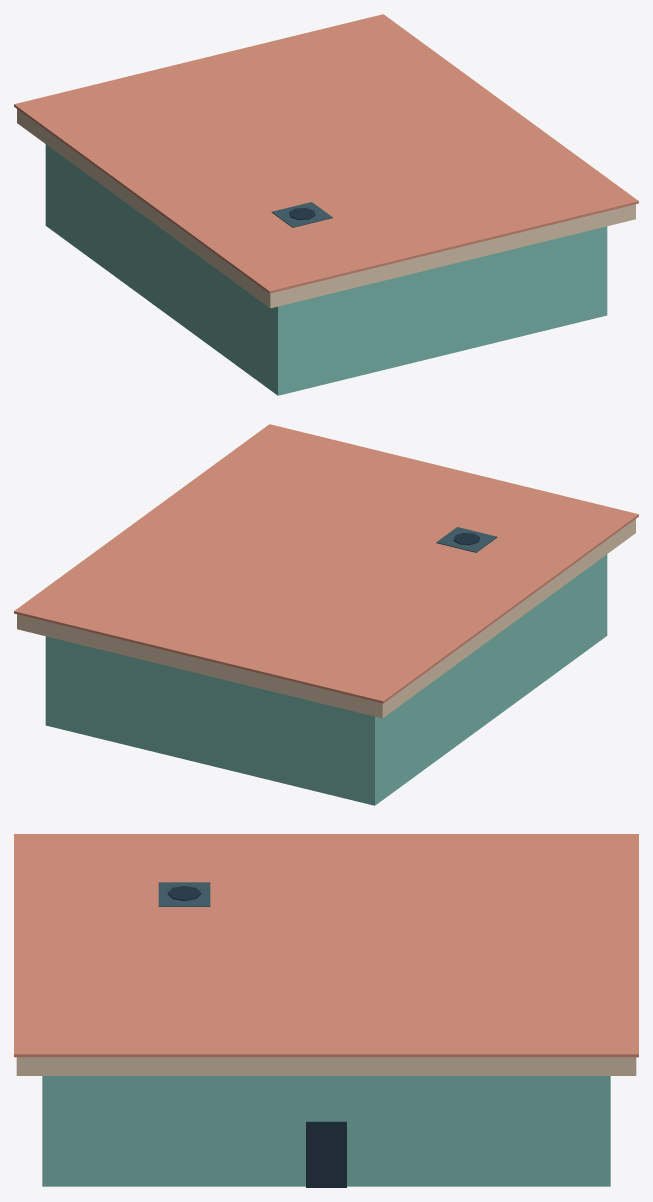
The model's file is building-station.obj.
The picture shows the model from 3 angles, top to bottom: view 1: azimuth 30°, elevation 25°; view 2: azimuth 150°, elevation 25°; view 3: azimuth 270°, elevation 25°; orthographic projection. The views are drawn at different scales.
Visible parts, largest first — view 1: building-station; view 2: building-station; view 3: building-station.
Boxes of the visible parts, x1,y1,x2,y2 form: building-station: (14,14,638,395); building-station: (14,424,638,805); building-station: (14,834,638,1187).
Size of the model in its own units: 20.2 by 6.26 by 24.2.
